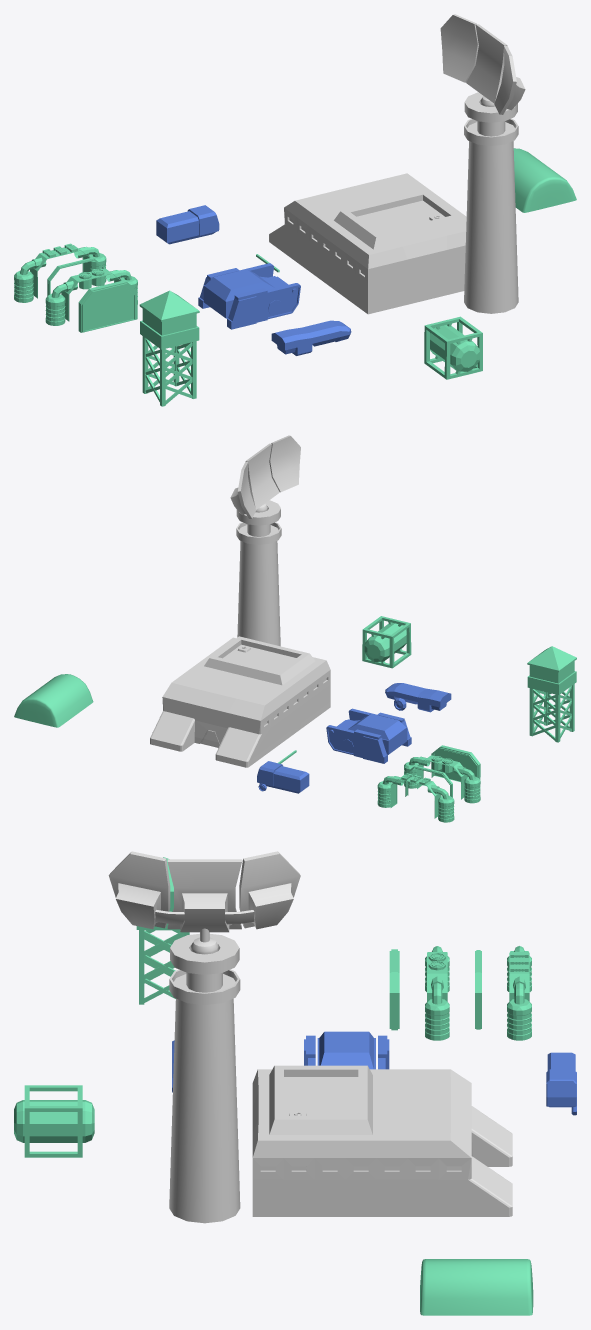
File: FOB V2.fbx
3 views of the same model, one above another, from view 1: azimuth 30°, elevation 25°; view 2: azimuth 150°, elevation 25°; view 3: azimuth 270°, elevation 25° (orthographic). The views are drawn at different scales.
Visible parts, largest first — view 1: Cube.006, Comms Tower, Watch Tower, Truck, Fuel tanks, Barracks.001, Generator.002, Generator.005, Generator.003, Car.001, Truck.002; view 2: Cube.006, Comms Tower, Watch Tower, Truck, Barracks.001, Fuel tanks, Generator.005, Generator.003, Car.001, Truck.002, Generator.002; view 3: Cube.006, Comms Tower, Barracks.001, Fuel tanks, Truck, Generator.005, Generator.003, Watch Tower, Truck.002, Generator.002.
Part boxes in pixels (<box>): Cube.006: <box>269,173,466,314</box>; Comms Tower: <box>440,14,525,313</box>; Watch Tower: <box>139,290,199,406</box>; Truck: <box>198,263,300,329</box>; Fuel tanks: <box>424,316,482,379</box>; Barracks.001: <box>513,148,576,212</box>; Generator.002: <box>78,280,137,332</box>; Generator.005: <box>14,243,106,302</box>; Generator.003: <box>45,268,137,325</box>; Car.001: <box>271,320,351,355</box>; Truck.002: <box>156,205,219,244</box>; Cube.006: <box>150,636,330,767</box>; Comms Tower: <box>230,435,300,646</box>; Watch Tower: <box>527,646,576,742</box>; Truck: <box>326,708,411,763</box>; Barracks.001: <box>14,674,93,727</box>; Fuel tanks: <box>362,616,411,668</box>; Generator.005: <box>377,773,454,822</box>; Generator.003: <box>404,755,480,803</box>; Car.001: <box>385,683,451,712</box>; Truck.002: <box>257,761,309,793</box>; Generator.002: <box>431,745,480,782</box>; Cube.006: <box>252,1065,512,1216</box>; Comms Tower: <box>108,851,300,1223</box>; Barracks.001: <box>420,1259,533,1315</box>; Fuel tanks: <box>14,1085,94,1157</box>; Truck: <box>304,1031,389,1069</box>; Generator.005: <box>507,946,531,1040</box>; Generator.003: <box>425,946,449,1040</box>; Watch Tower: <box>136,857,189,1004</box>; Truck.002: <box>546,1052,576,1115</box>; Generator.002: <box>389,949,399,1030</box>.
Bounding box in the file's own units: 5769 × 2838 × 4114.
